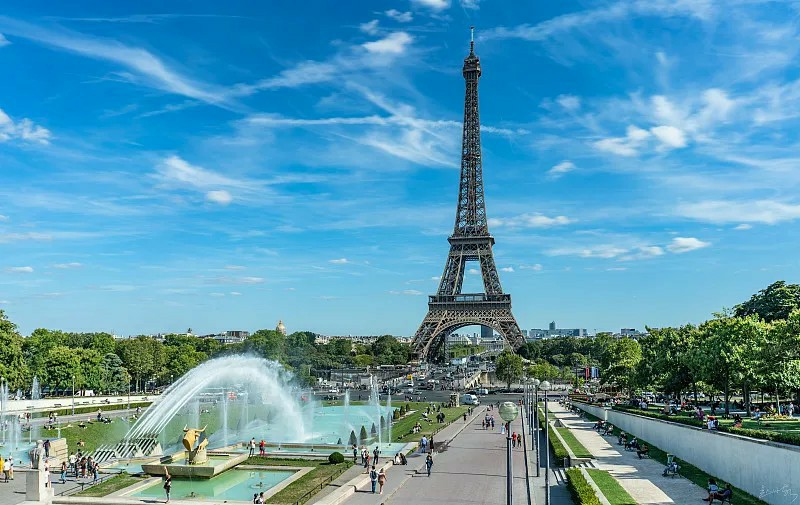Eiffel: (406, 26, 531, 360)
